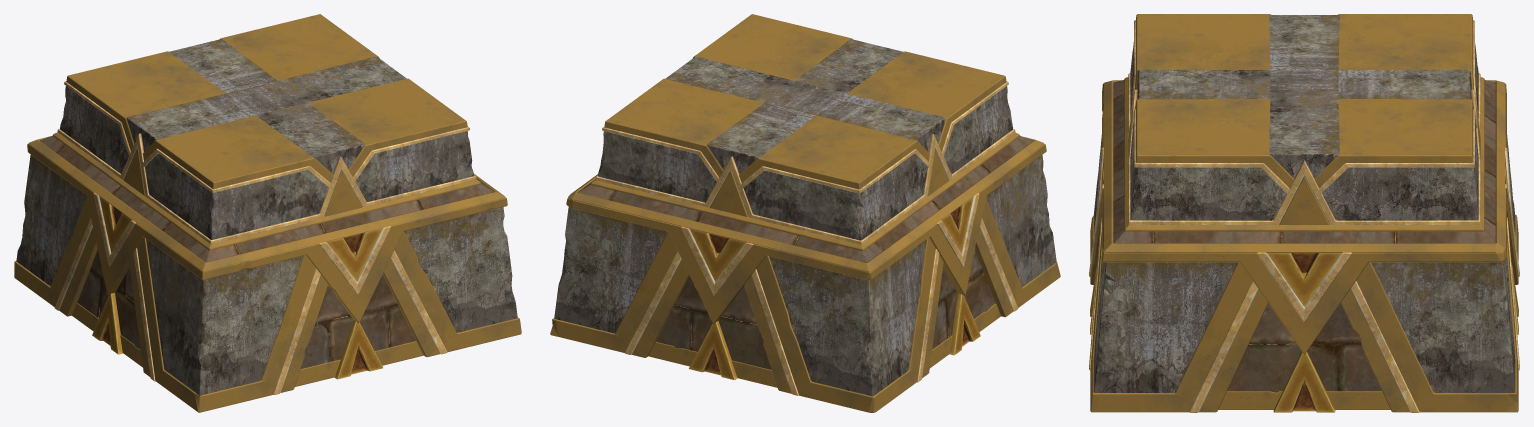
3 views of the same model, side by side, from view 1: azimuth 30°, elevation 25°; view 2: azimuth 150°, elevation 25°; view 3: azimuth 270°, elevation 25° (orthographic). The views are drawn at different scales.
Parts seen in each view (by area): view 1: SM_DK_16m_TowerMid_013_LOD0; view 2: SM_DK_16m_TowerMid_013_LOD0; view 3: SM_DK_16m_TowerMid_013_LOD0.
Boxes of the visible parts, bbox=[...] form: SM_DK_16m_TowerMid_013_LOD0: bbox=[14, 14, 521, 412]; SM_DK_16m_TowerMid_013_LOD0: bbox=[550, 14, 1060, 412]; SM_DK_16m_TowerMid_013_LOD0: bbox=[1089, 14, 1519, 412].
Bounding box in the file's own units: 6.39 × 3.89 × 6.39.
4 materials, 4 textured.
